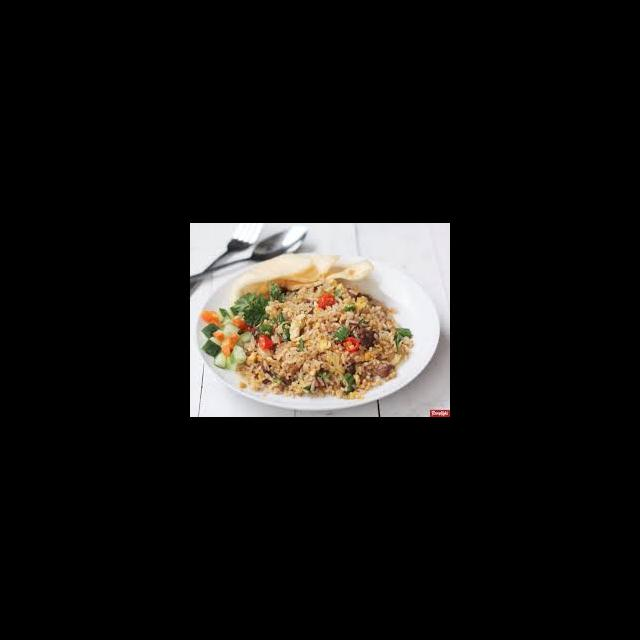food_waste: (251, 301, 398, 373)
